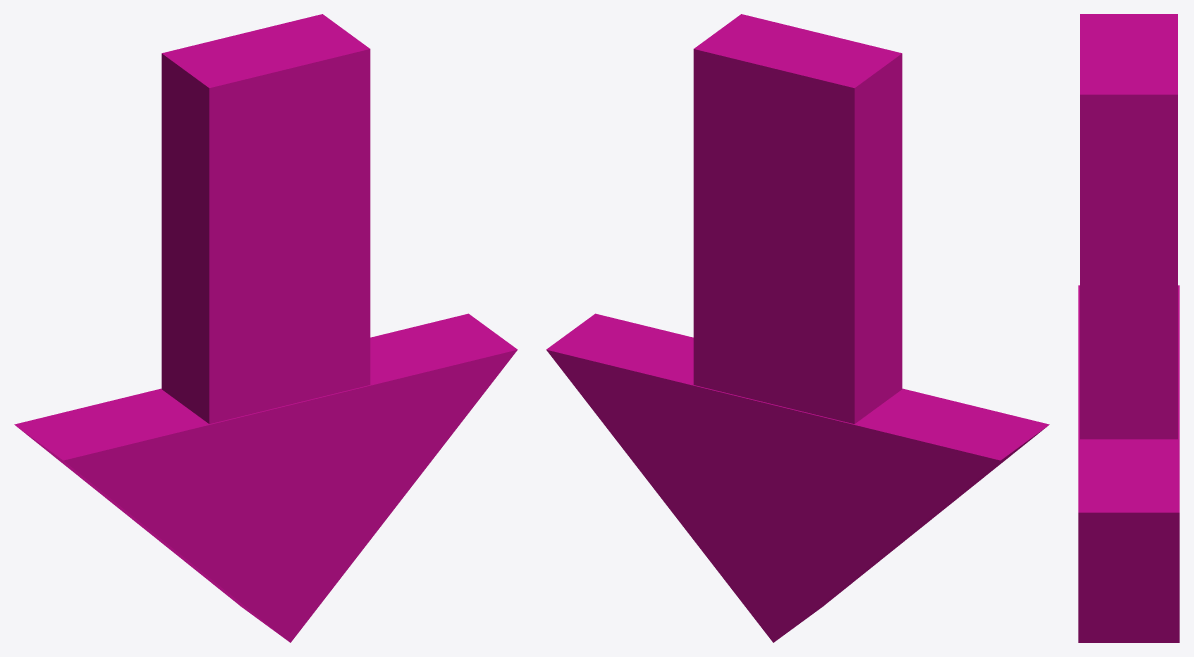
Rendered from arrow.fbx.
The picture shows the model from 3 angles, left to right: view 1: azimuth 30°, elevation 25°; view 2: azimuth 150°, elevation 25°; view 3: azimuth 270°, elevation 25°; orthographic projection. The views are drawn at different scales.
Visible parts, largest first — view 1: arrow; view 2: arrow; view 3: arrow.
Part boxes in pixels (box(x1,y1,x2,y2)): arrow: box(14, 14, 517, 642); arrow: box(546, 14, 1049, 642); arrow: box(1078, 14, 1179, 642).
Size of the model in its own units: 1245 by 1501 by 234.
